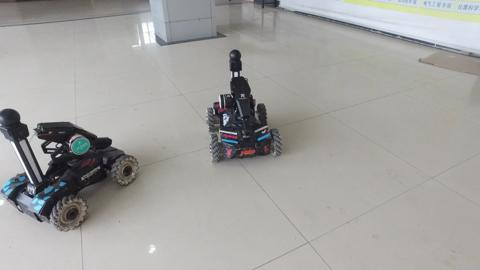chariot: (1, 104, 141, 235), (198, 49, 286, 167)
